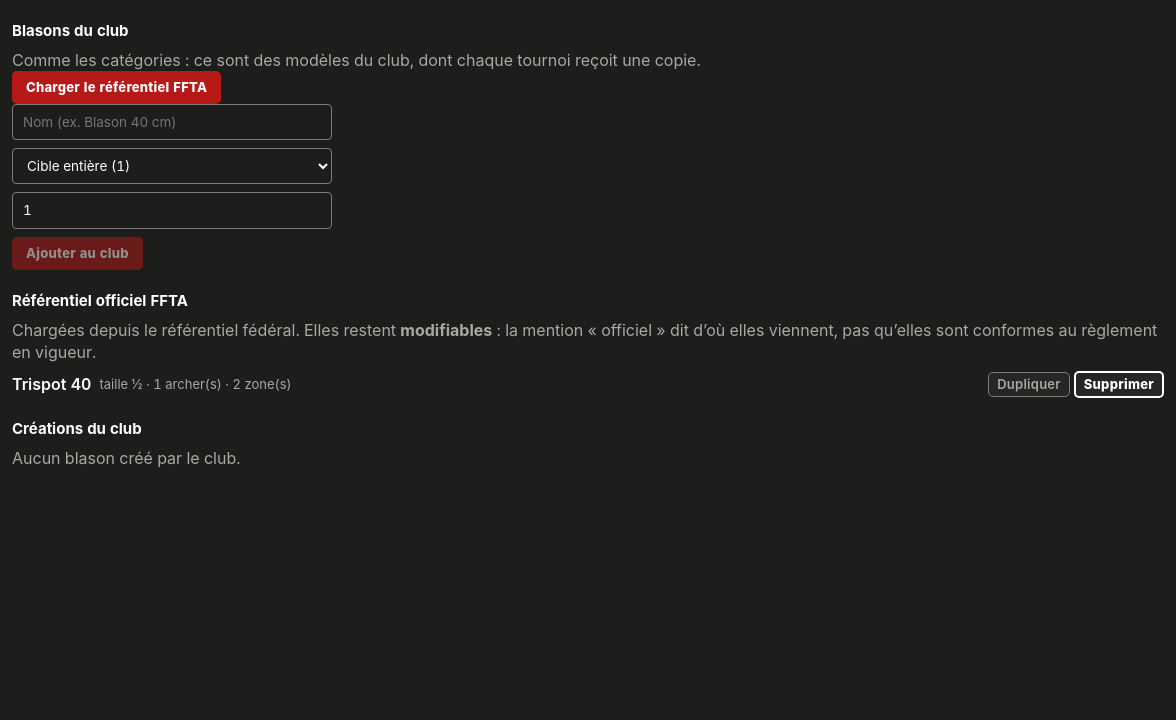
Test: Blasons du club — taille en fractions › « Autre… » déplie un réel libre, exigé avant l’envoi
The width and height of the screenshot is (1176, 720).
Type "Maison" into the field named "Nom du blason". click: {"x": 172, "y": 122}
box: [12,104,332,140]
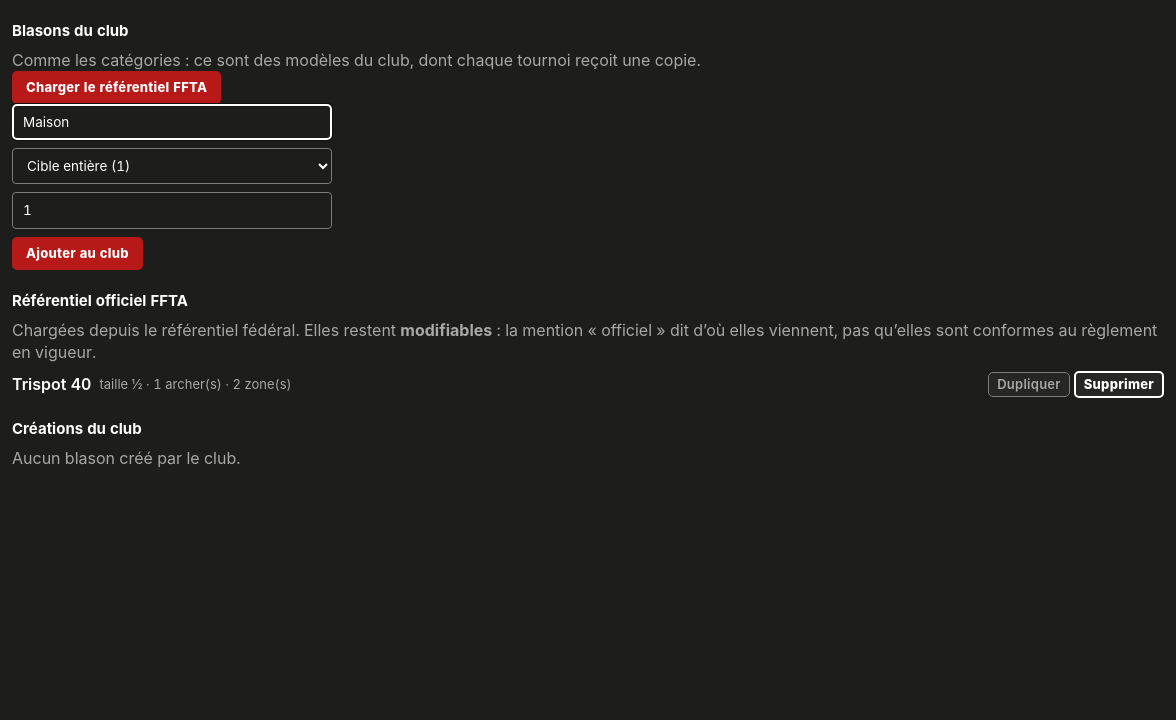
Select "Autre…" in the dropdown named "Place occupée sur une cible". click: {"x": 172, "y": 166}
box: [12,148,332,184]
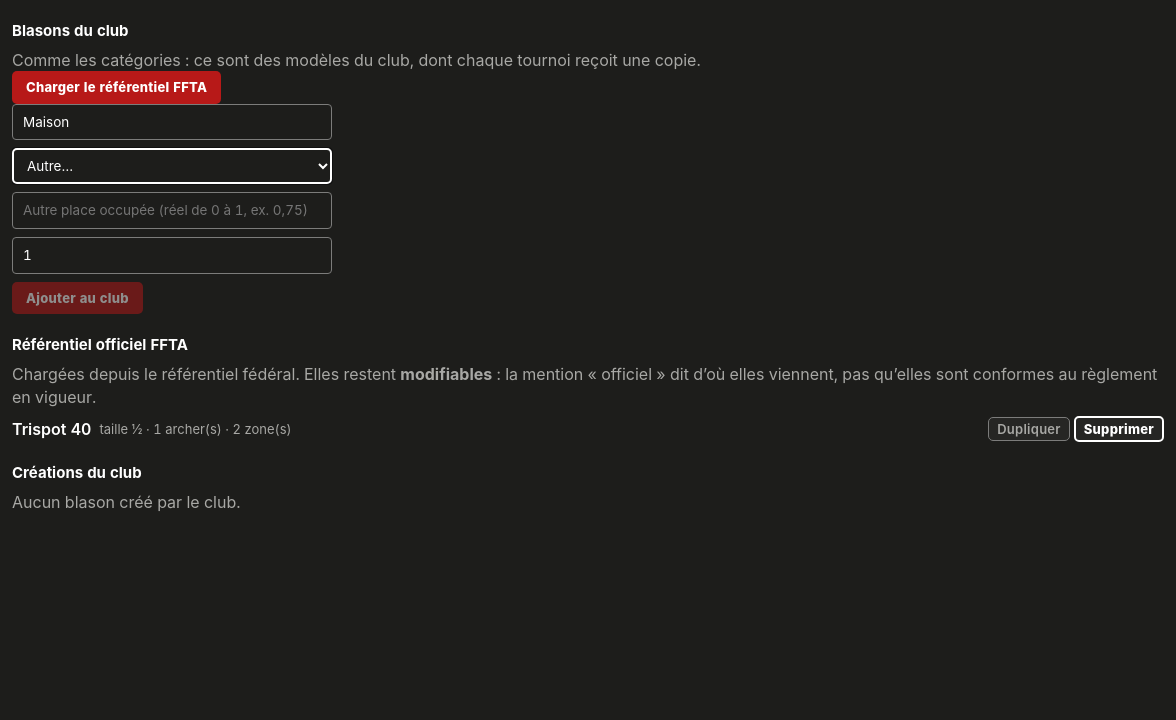
Expected: the field named "Autre place occupée sur une cible (réel de 0 à 1)" is shown, [12,192,332,229]
Expected: the button "Ajouter au club" is disabled, [12,282,143,314]
